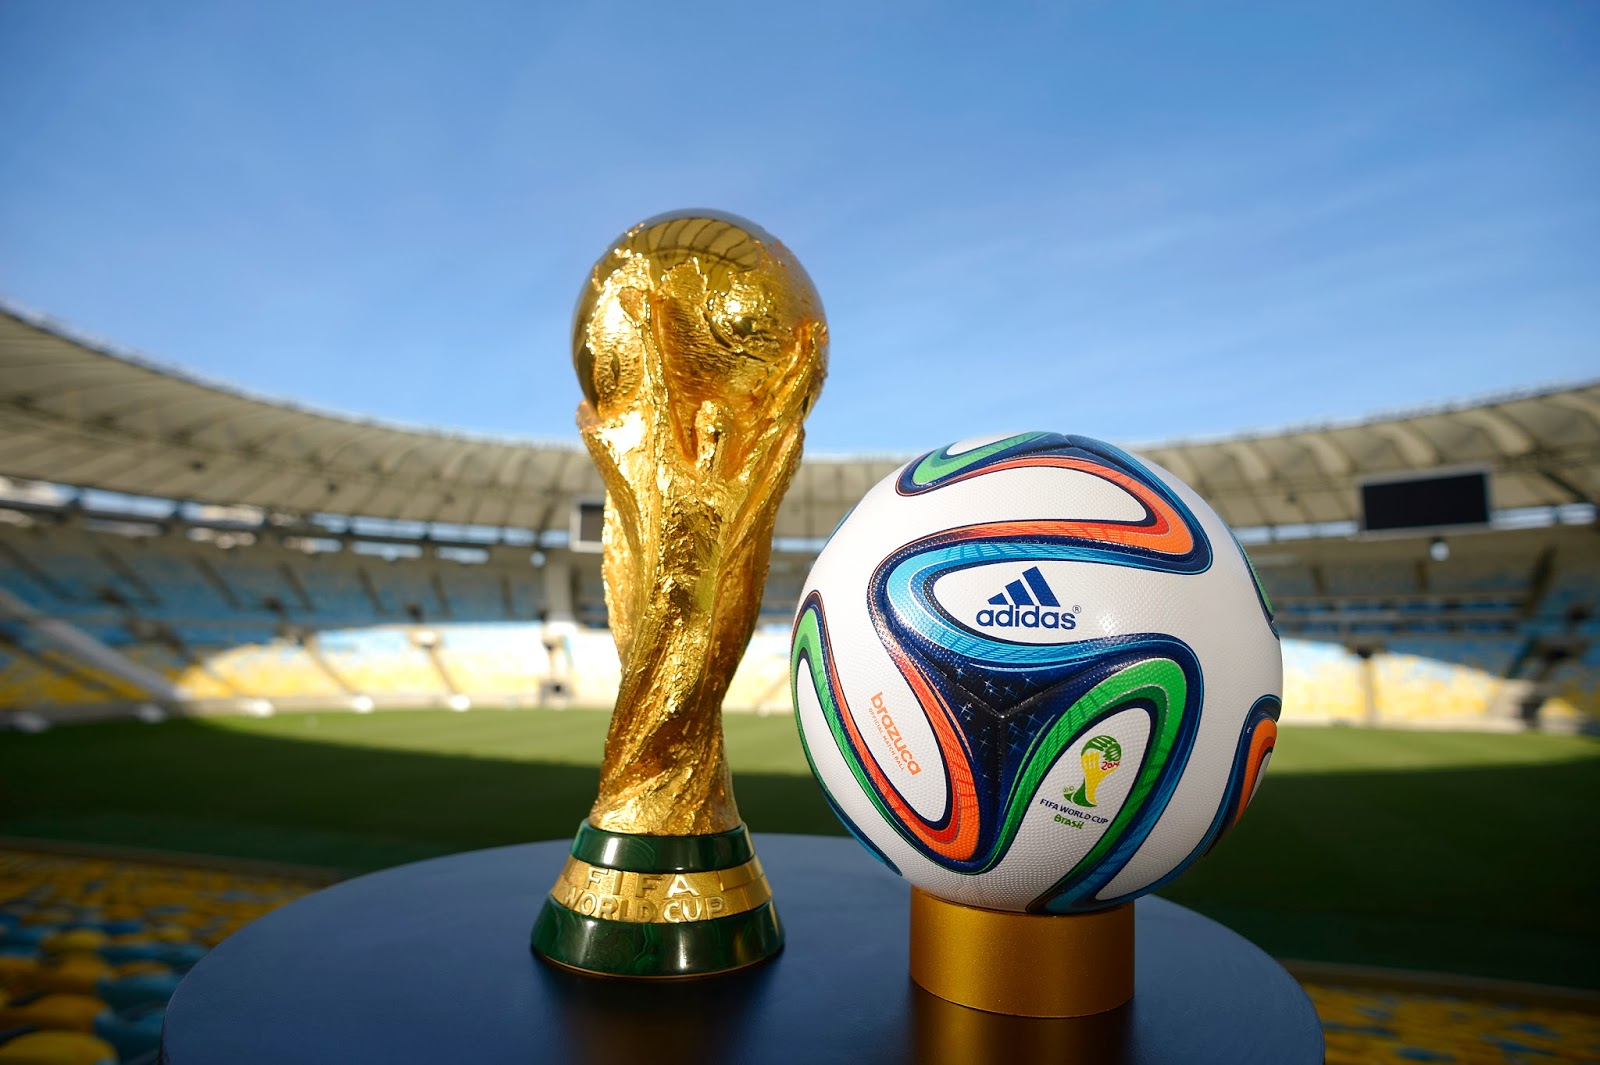football: (789, 430, 1278, 910)
